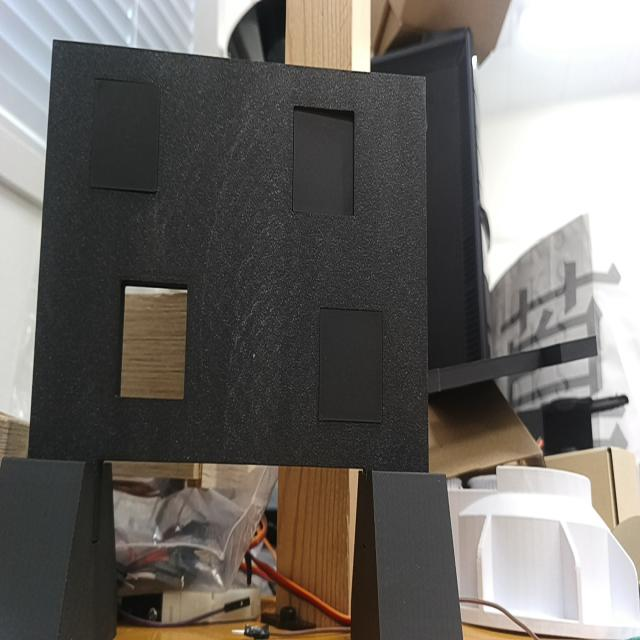Obstacle: (120, 285, 187, 398)
Wall: (30, 41, 428, 470)
